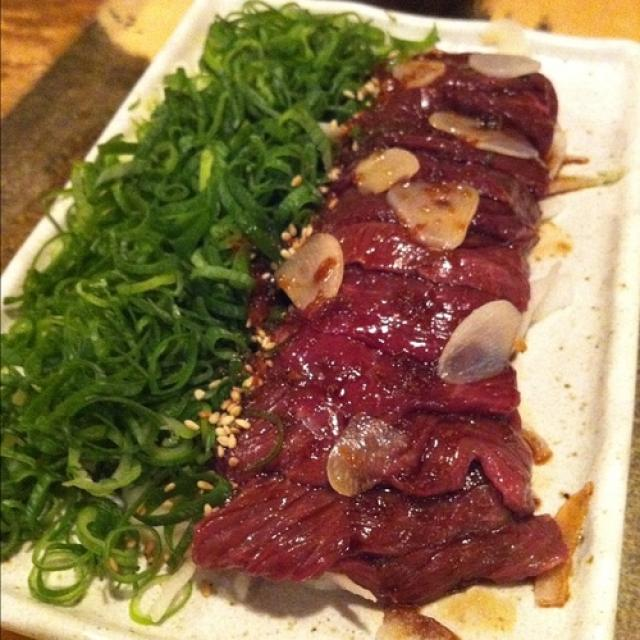刺身生食: (225, 40, 557, 604)
